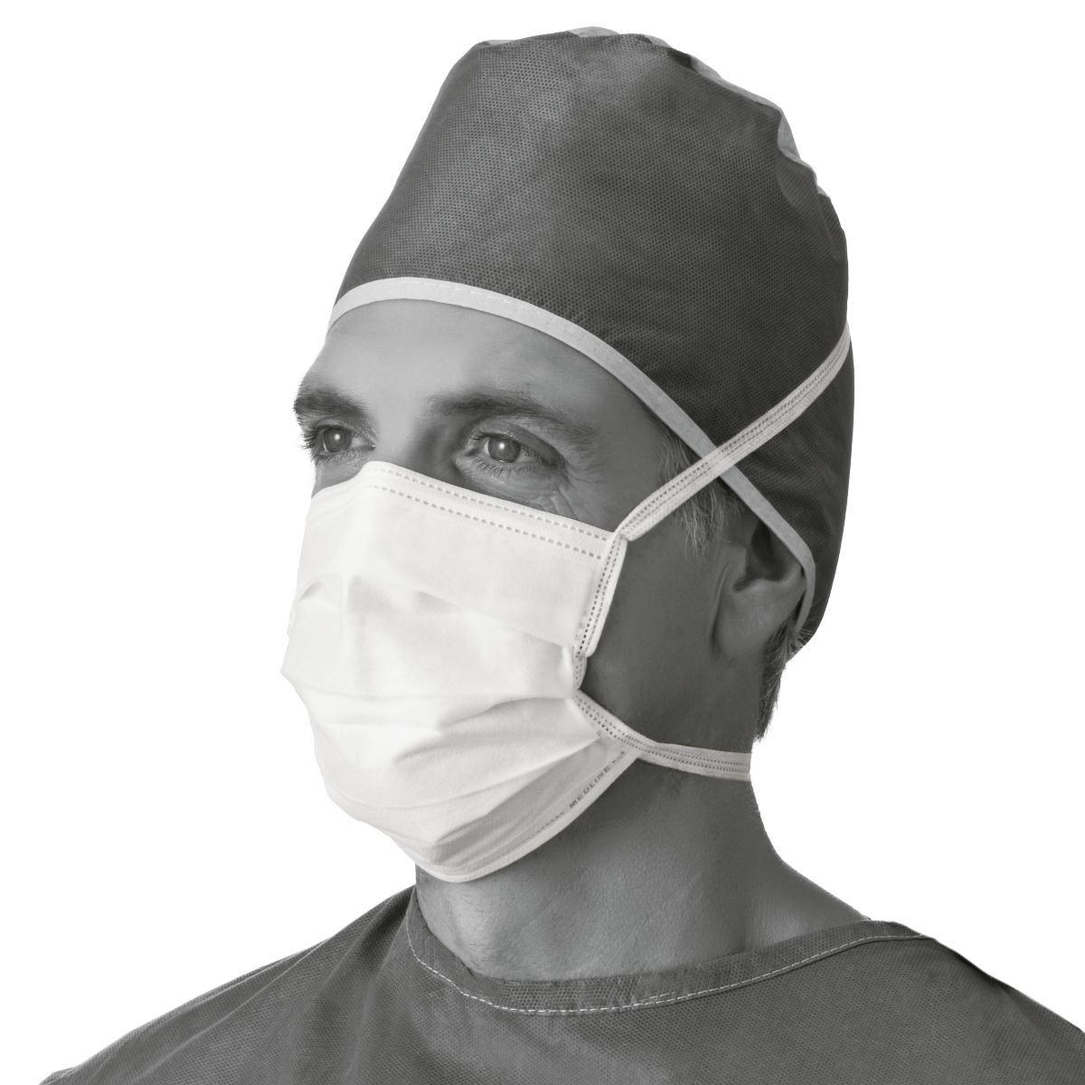Wearing Mask: (191, 16, 1031, 1085)
